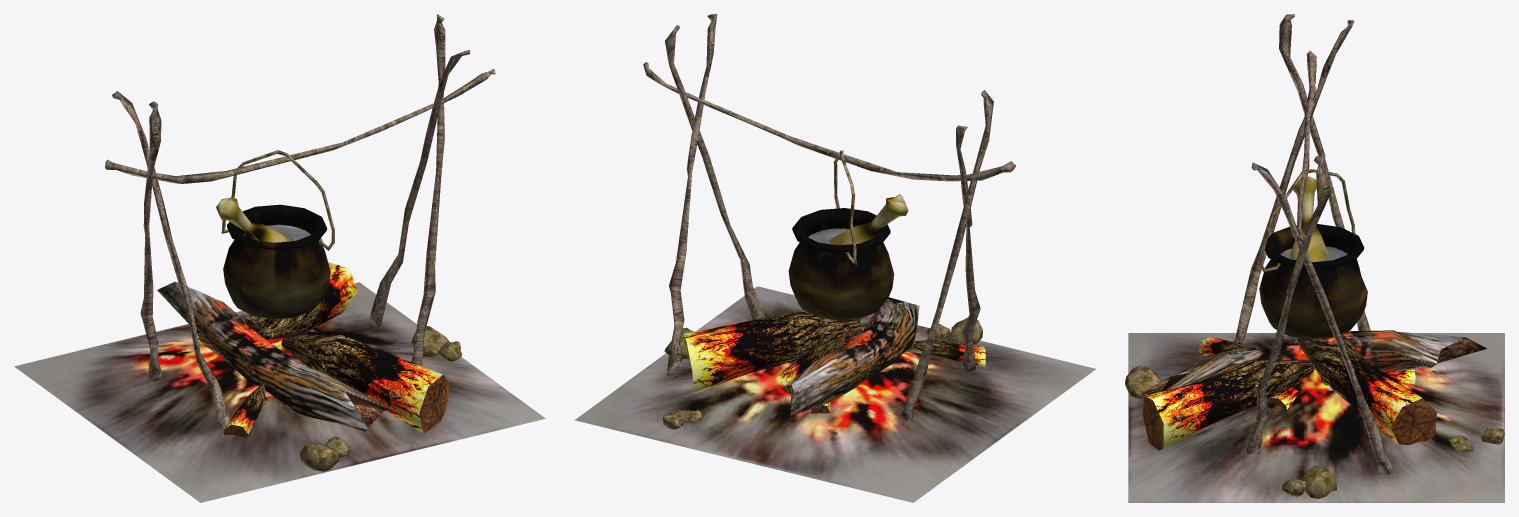
Rendered from CAMPFIRE.obj.
3 renders of one model, left to right at view 1: azimuth 30°, elevation 25°; view 2: azimuth 150°, elevation 25°; view 3: azimuth 270°, elevation 25°, orthographic. The views are drawn at different scales.
Visible parts, largest first — view 1: Plane02, staff02, Line03, Cylinder01, Object06, Object05, GeoSphere01, Object03, Box314; view 2: Plane02, staff02, Line03, Object05, Cylinder01, GeoSphere01, Object03, Object02; view 3: Plane02, staff02, Line03, Object06, Cylinder01, Object05, GeoSphere01, Box311, Box314, Object03, Object04.
Boxes of the visible parts, <box> form: Plane02: <box>14,282,545,502</box>; staff02: <box>105,14,495,428</box>; Line03: <box>221,150,334,319</box>; Cylinder01: <box>157,281,387,432</box>; Object06: <box>281,335,450,432</box>; Object05: <box>261,262,357,339</box>; GeoSphere01: <box>216,197,291,242</box>; Object03: <box>223,384,264,438</box>; Box314: <box>299,442,339,473</box>; Plane02: <box>575,286,1095,502</box>; staff02: <box>643,14,1015,421</box>; Line03: <box>788,150,894,320</box>; Object05: <box>683,311,862,392</box>; Cylinder01: <box>781,297,919,415</box>; GeoSphere01: <box>830,194,908,245</box>; Object03: <box>912,339,985,366</box>; Object02: <box>779,337,845,385</box>; Plane02: <box>1128,333,1504,502</box>; staff02: <box>1233,14,1391,474</box>; Line03: <box>1258,169,1367,339</box>; Object06: <box>1142,359,1313,450</box>; Cylinder01: <box>1141,330,1486,395</box>; Object05: <box>1297,338,1436,444</box>; GeoSphere01: <box>1290,176,1329,262</box>; Box311: <box>1301,465,1336,498</box>; Box314: <box>1125,365,1161,398</box>; Object03: <box>1198,337,1249,356</box>; Object04: <box>1267,380,1302,409</box>.
Bounding box in the file's own units: 600 × 512 × 509.
